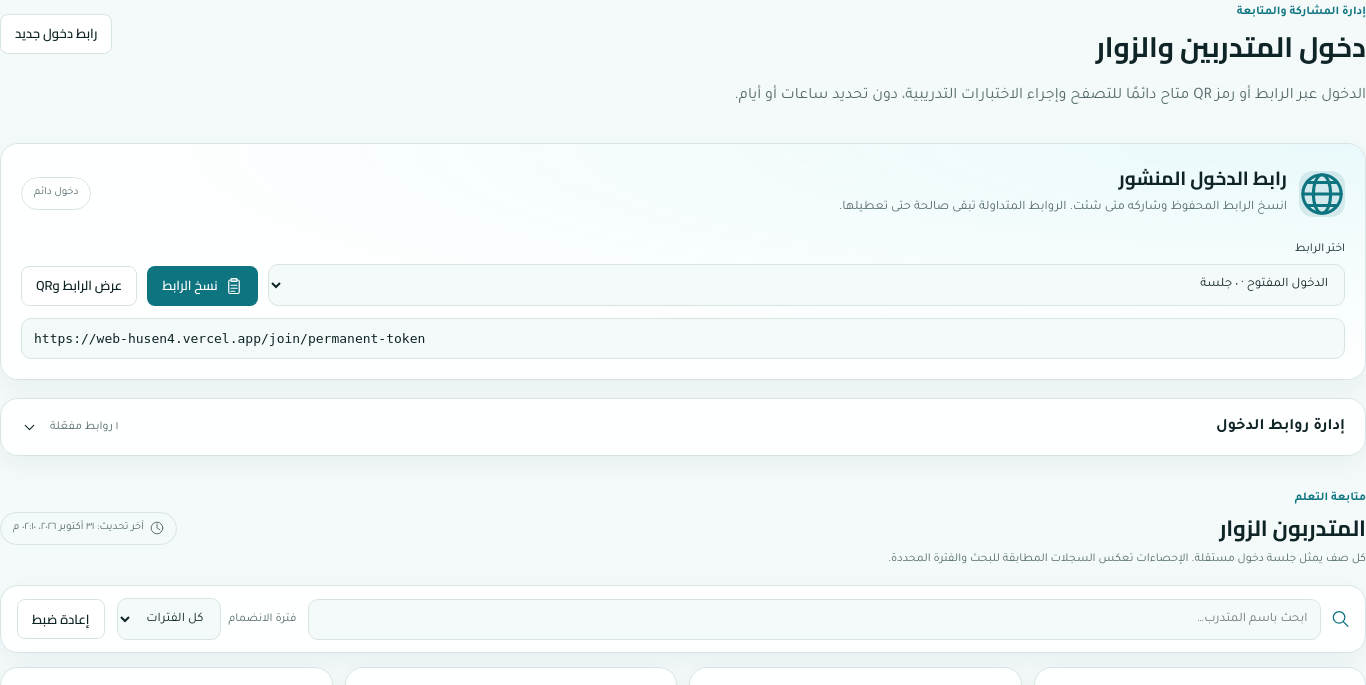
Test case: permanent training access administration › cleans disabled records through the protected action and keeps the active link
This screenshot has width=1366, height=685.
Expected: the field named "رابط الدخول المحفوظ" is shown, [21,318,1345,359]
Click the heading "إدارة روابط الدخول ١ روابط مفعّلة".
click(1281, 427)  # box [21,419,1345,436]
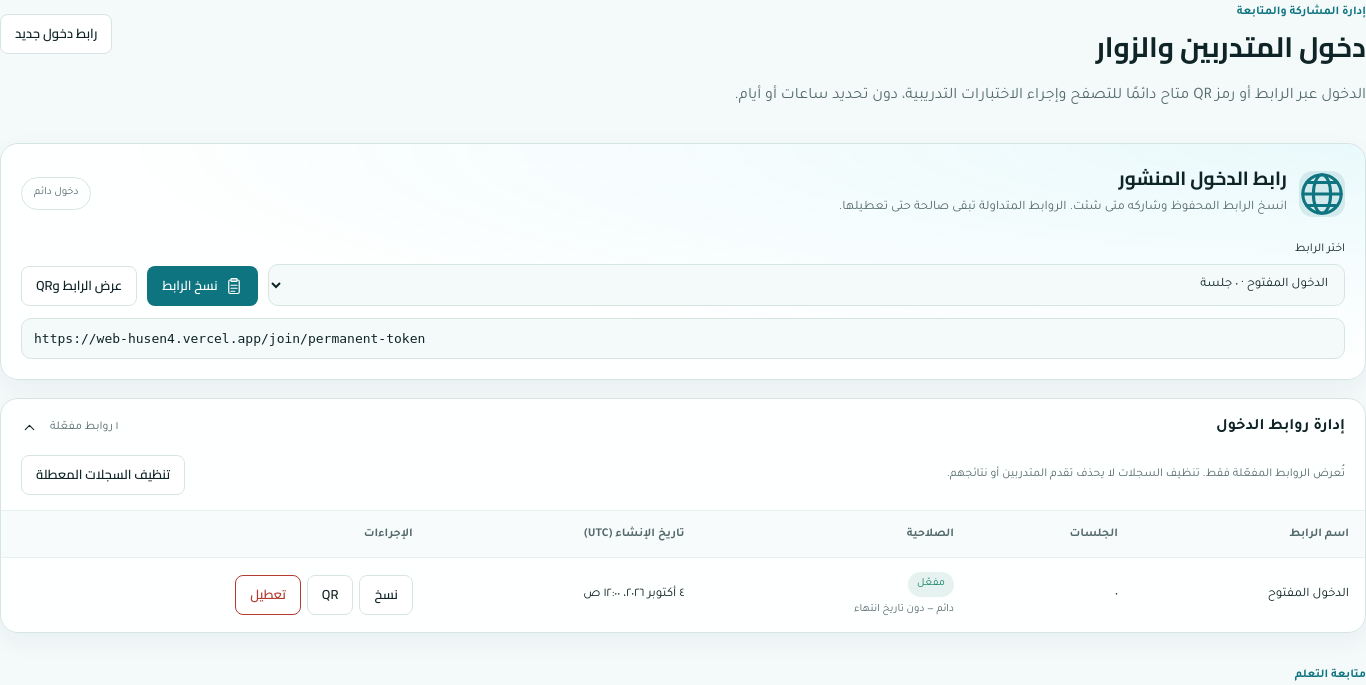
Click the button "تنظيف السجلات المعطلة".
click(103, 475)  # box [21,455,185,495]
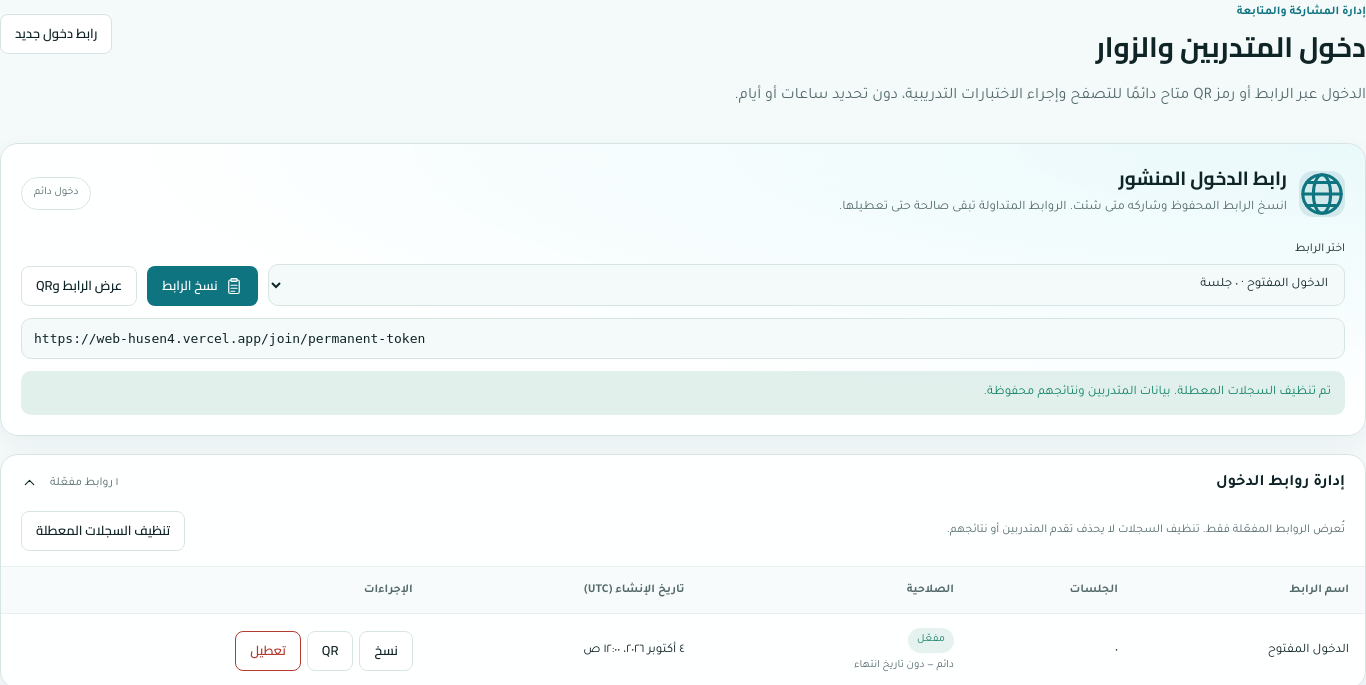
Expected: the field named "رابط الدخول المحفوظ" holds "https://web-husen4.vercel.app/join/permanent-token", [21,318,1345,359]
Result: the text "تم تنظيف السجلات المعطلة. بيانات المتدربين ونتائجهم محفوظة." is shown at [21,371,1345,415]
